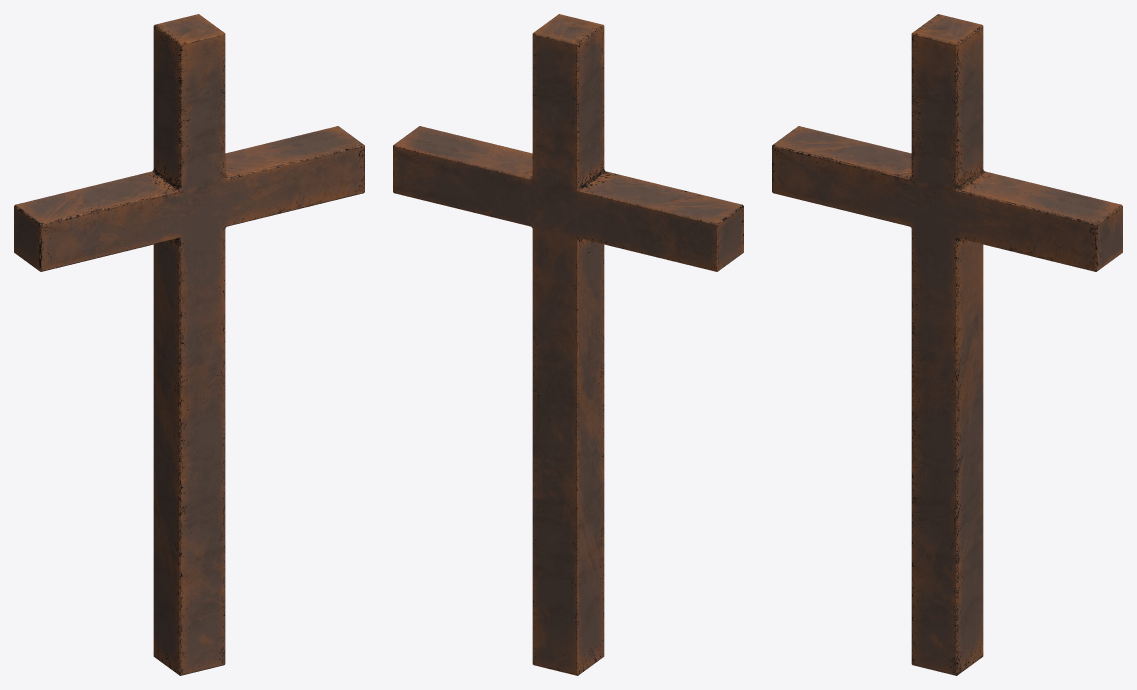
The model's file is cross.glb.
The picture shows the model from 3 angles, left to right: view 1: azimuth 30°, elevation 25°; view 2: azimuth 150°, elevation 25°; view 3: azimuth 330°, elevation 25°; orthographic projection.
Parts seen in each view (by area): view 1: Cube; view 2: Cube; view 3: Cube.
Boxes of the visible parts, box(x1,y1,x2,y2) form: Cube: box(14, 14, 364, 675); Cube: box(393, 14, 743, 675); Cube: box(772, 14, 1122, 675).
Bounding box in the file's own units: 1.08 × 2 × 0.1538.
1 material, 1 textured.
